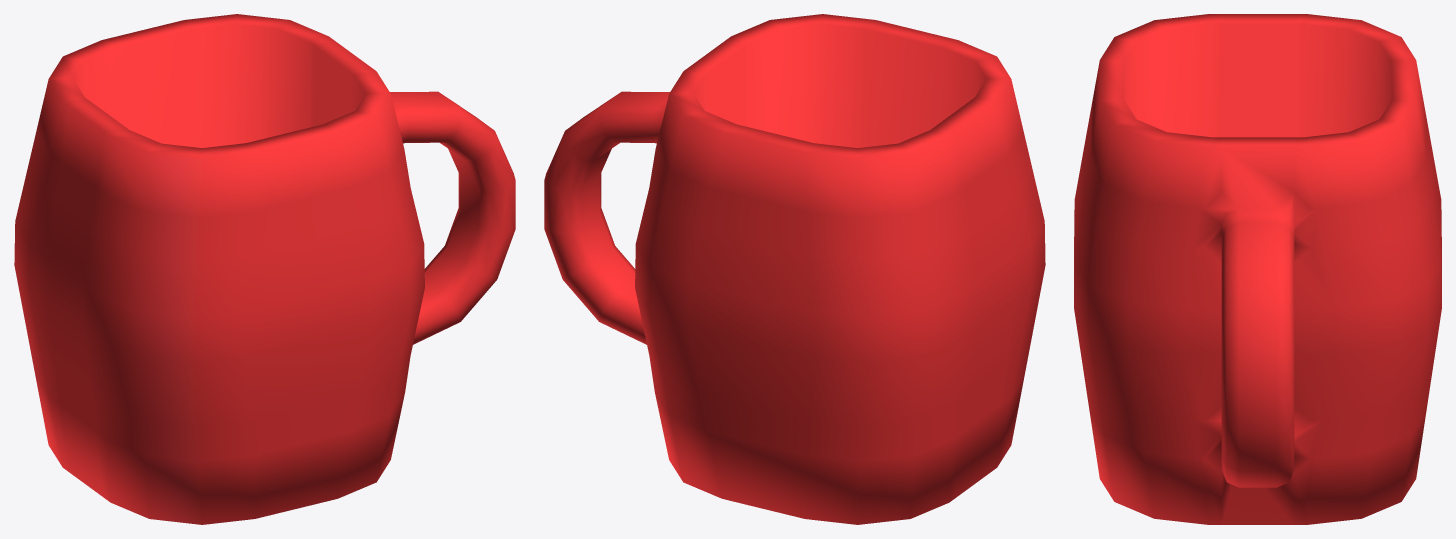
File: Gelas1.fbx
3 renders of one model, left to right at view 1: azimuth 30°, elevation 25°; view 2: azimuth 150°, elevation 25°; view 3: azimuth 270°, elevation 25°, orthographic. The views are drawn at different scales.
Parts seen in each view (by area): view 1: Gelas; view 2: Gelas; view 3: Gelas.
Boxes of the visible parts, left/top/right/bottom form: Gelas: left=14, top=14, right=515, bottom=524; Gelas: left=544, top=14, right=1045, bottom=524; Gelas: left=1074, top=14, right=1441, bottom=524.
Size of the model in its own units: 40.13 by 31.96 by 28.25.
Materials: 1 (1 with a texture image).
